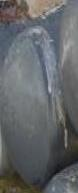cylinder: (0, 1, 78, 193)
